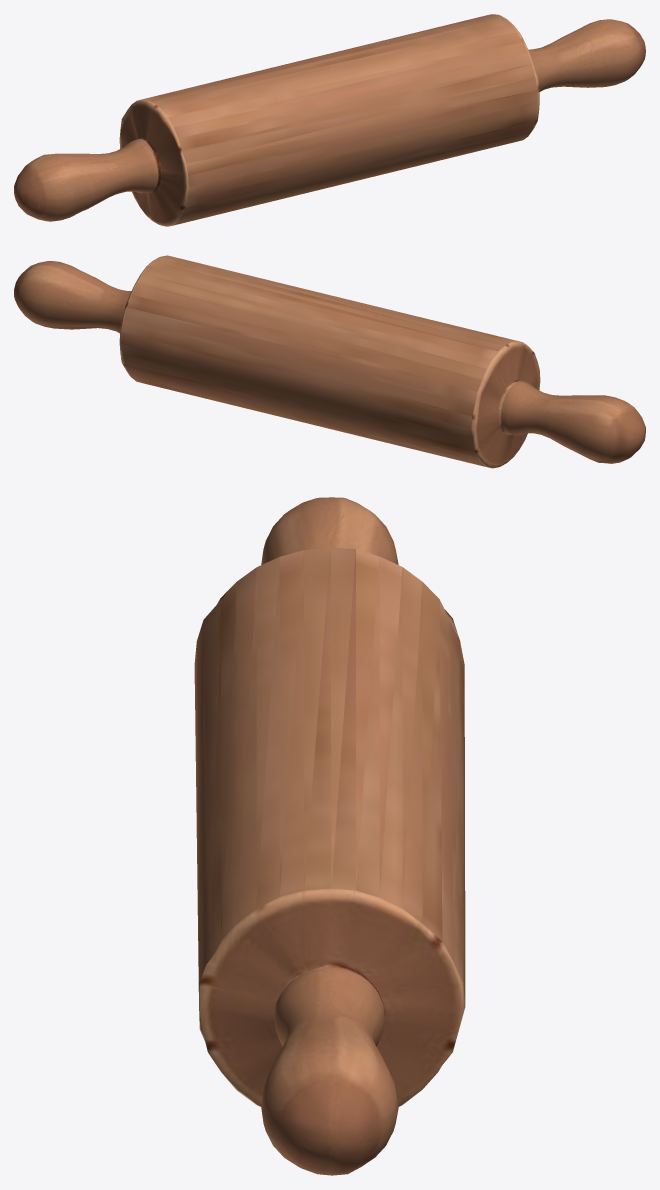
The model's file is item-oakPin.glb.
The picture shows the model from 3 angles, top to bottom: view 1: azimuth 30°, elevation 25°; view 2: azimuth 150°, elevation 25°; view 3: azimuth 270°, elevation 25°; orthographic projection. The views are drawn at different scales.
Size of the model in its own units: 0.9517 by 0.1719 by 0.1787.
1 material, 1 textured.
